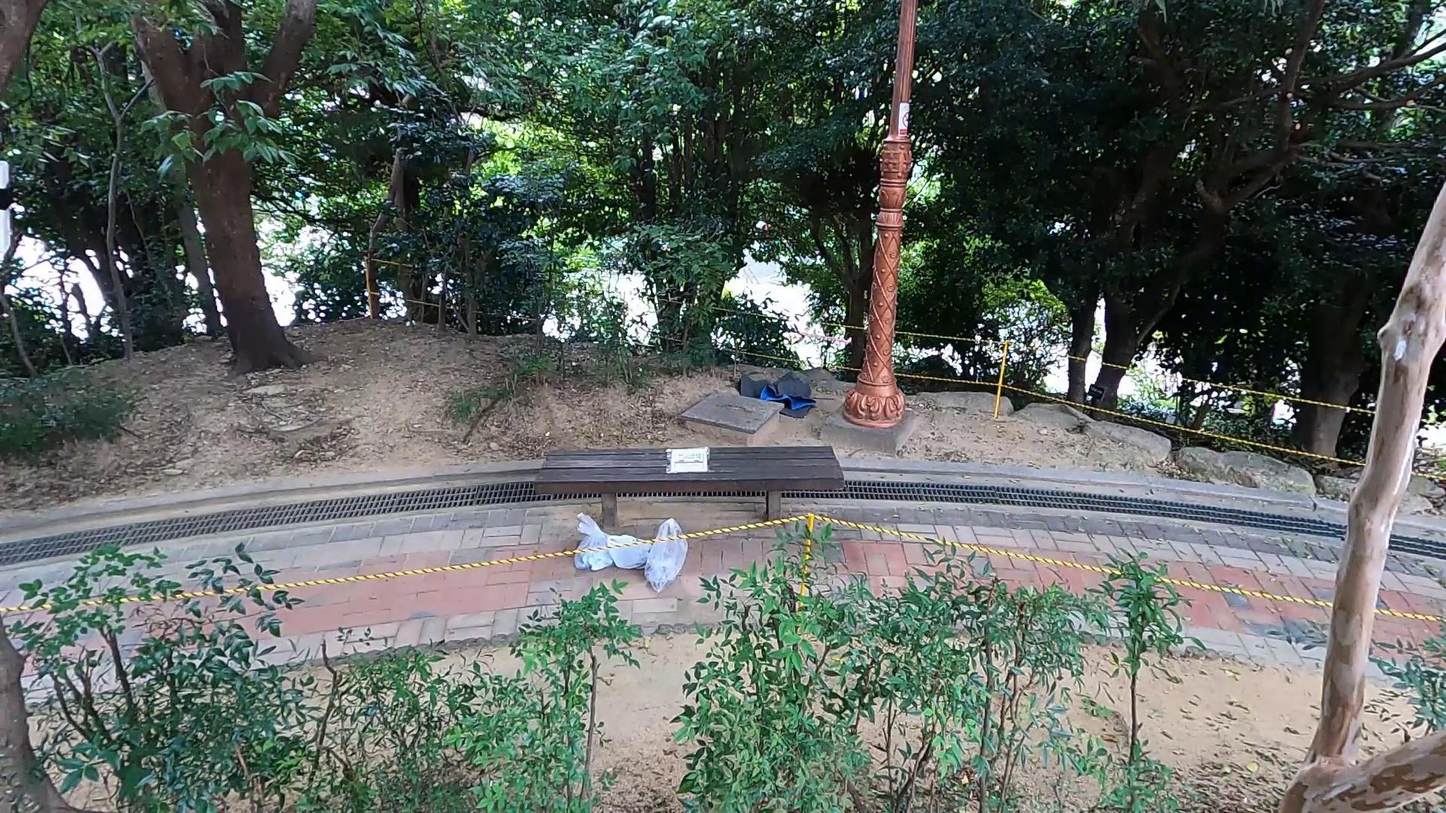trash: (628, 506, 699, 596), (734, 363, 826, 421), (583, 520, 654, 573), (569, 513, 620, 575)
